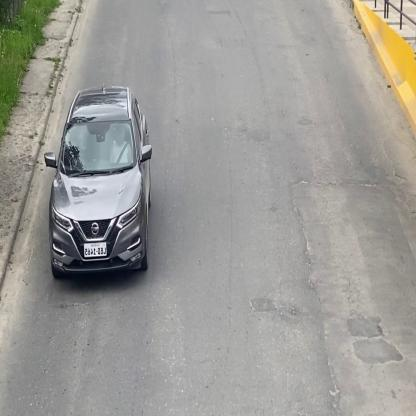Placa: (83, 241, 108, 258)
